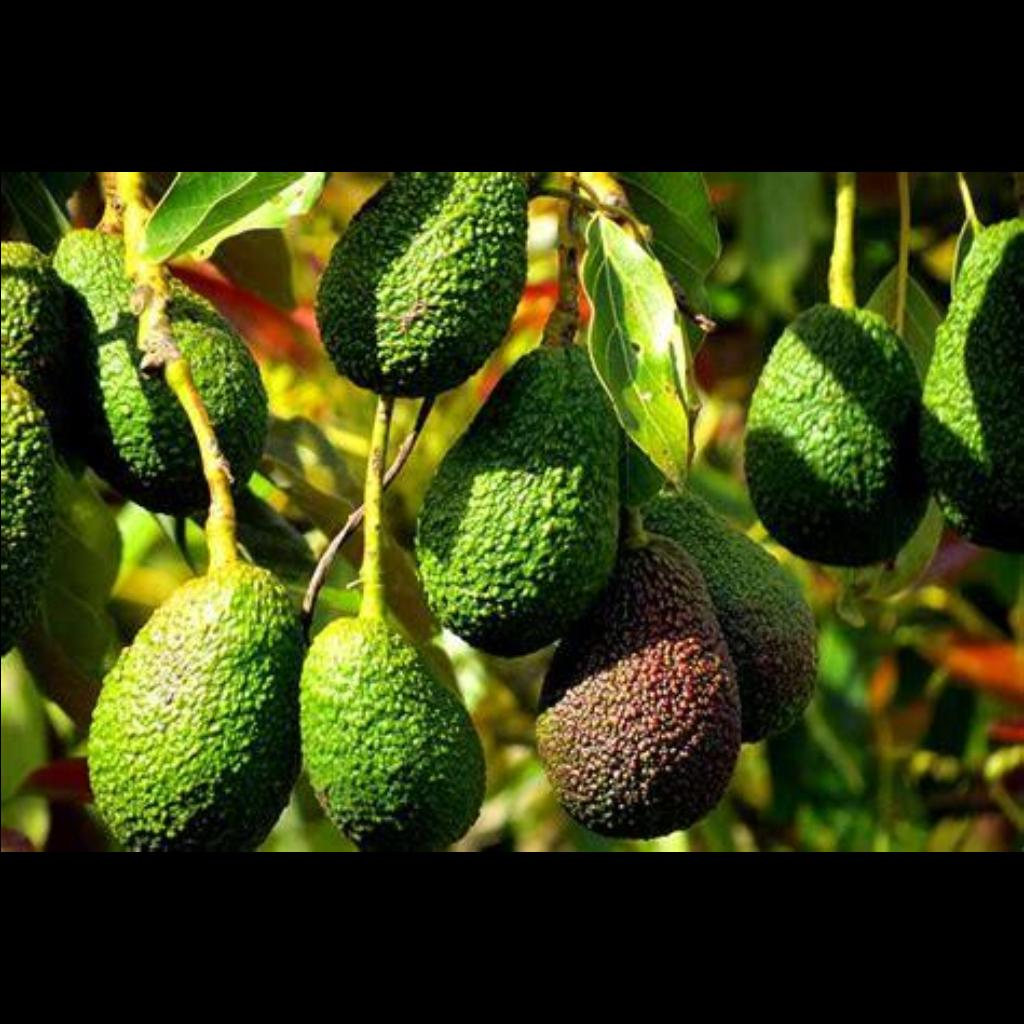Anthracnose: (550, 597, 752, 817)
